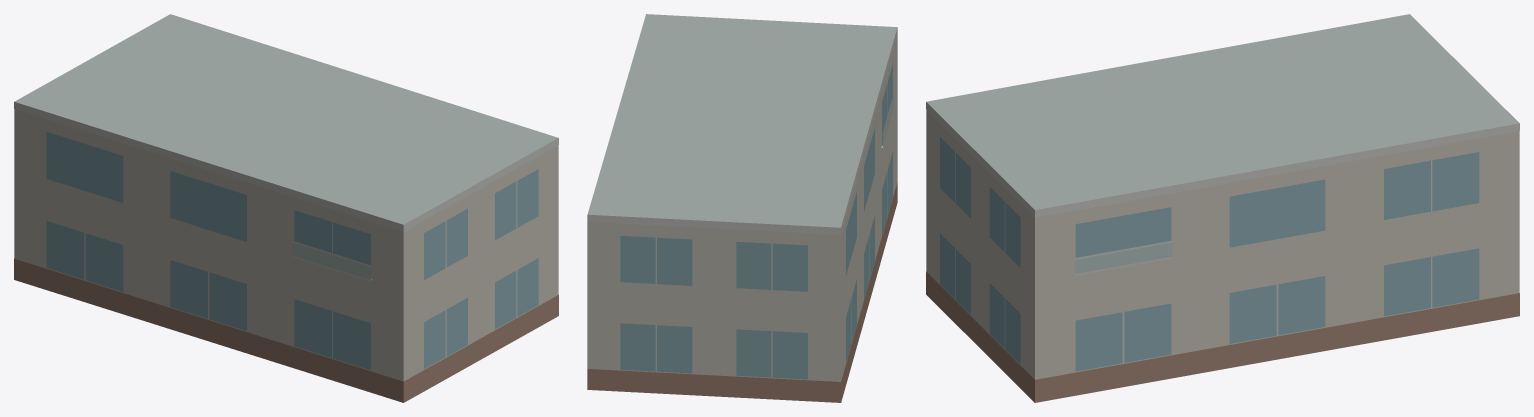
The model's file is survey-upis-32775363.glb.
3 views of the same model, side by side, from view 1: azimuth 30°, elevation 25°; view 2: azimuth 150°, elevation 25°; view 3: azimuth 270°, elevation 25° (orthographic). The views are drawn at different scales.
Visible parts, largest first — view 1: survey-upis-32775363.tmp; view 2: survey-upis-32775363.tmp; view 3: survey-upis-32775363.tmp.
Part boxes in pixels (left/top/right/bottom): survey-upis-32775363.tmp: left=14, top=14, right=558, bottom=402; survey-upis-32775363.tmp: left=587, top=14, right=897, bottom=402; survey-upis-32775363.tmp: left=926, top=14, right=1519, bottom=402.
Bounding box in the file's own units: 13.32 × 6.1 × 17.04.
